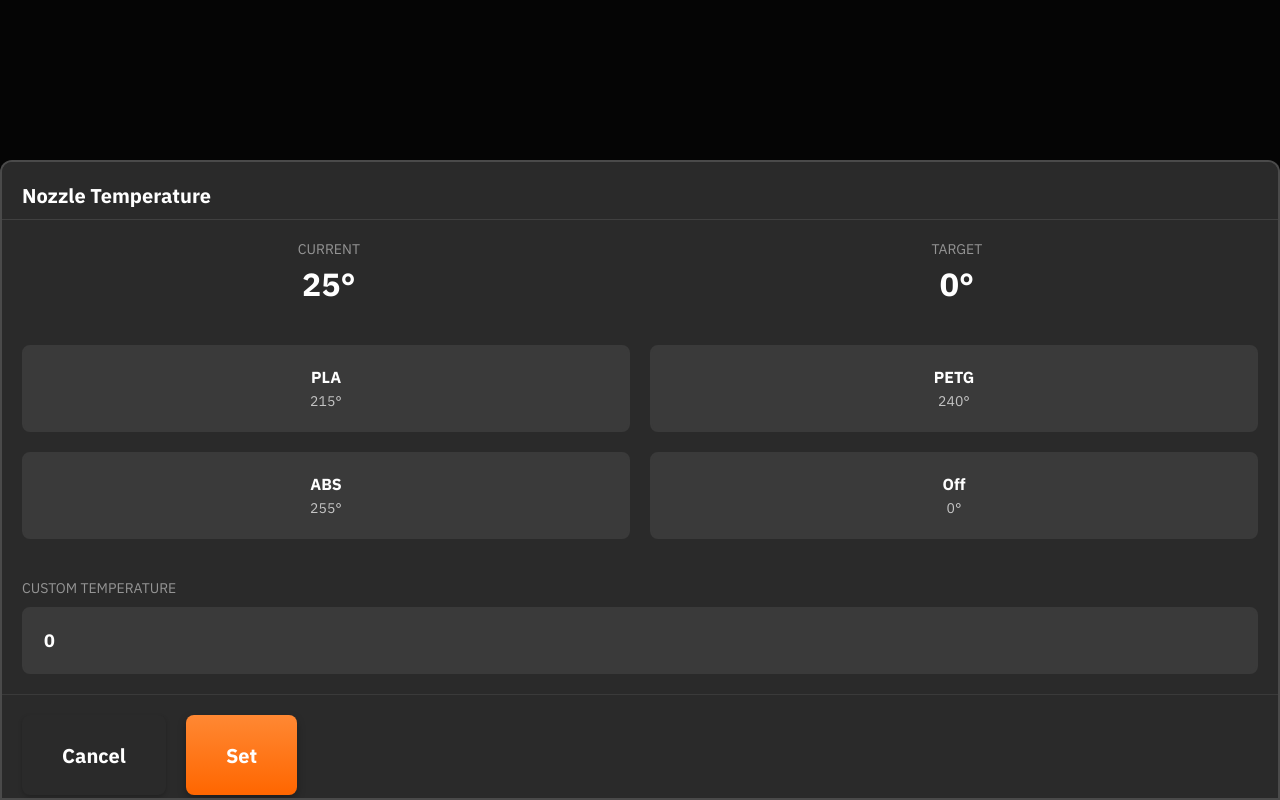
Test: TemperatureControl › updates custom input when preset clicked
The width and height of the screenshot is (1280, 800).
Step 1. Click the button "PLA 215°" → coordinates (326, 388), box x1=22 y1=345 x2=630 y2=432
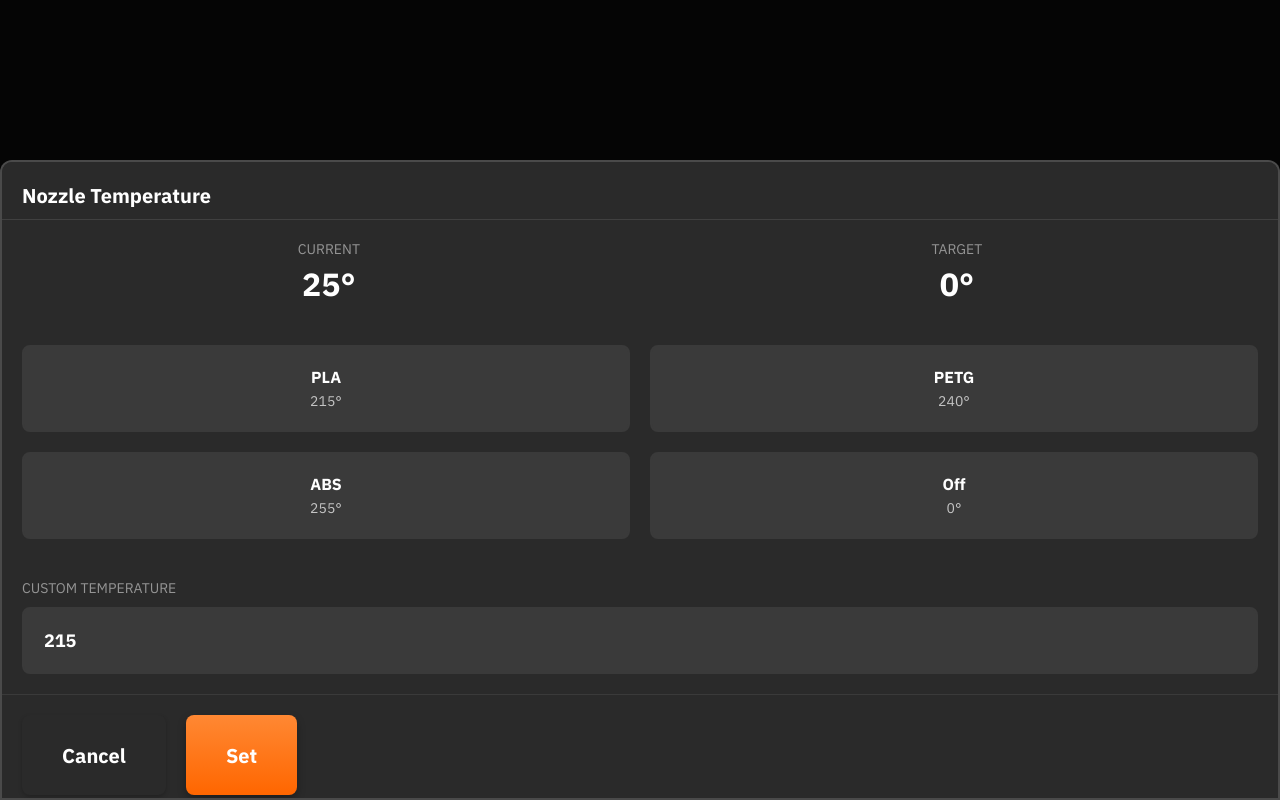
Expected: the number field labelled "Custom Temperature" holds "215", x1=22 y1=607 x2=1258 y2=674
